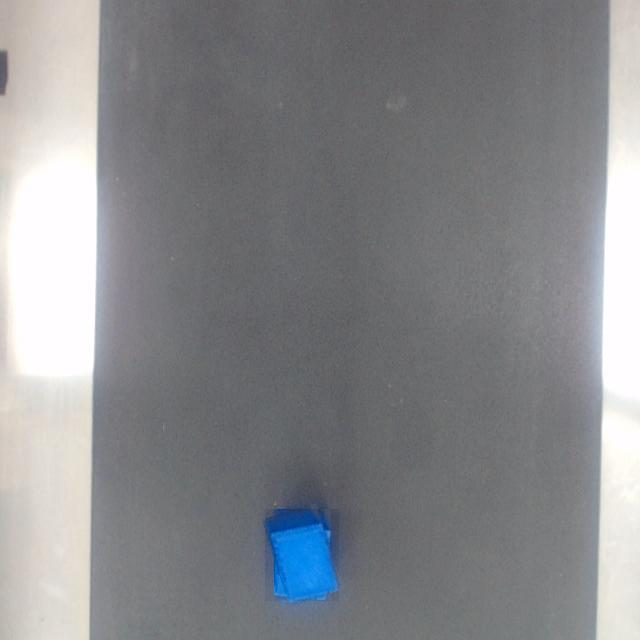Azul: (266, 510, 339, 601)
